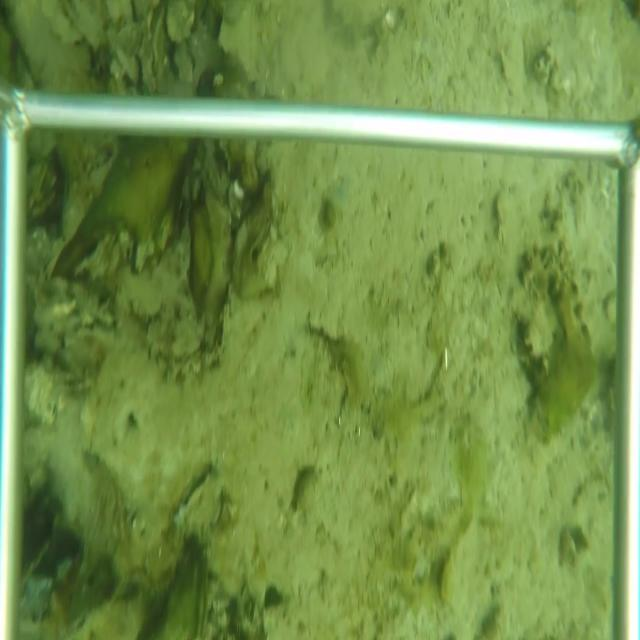Oyster-Open: (139, 0, 166, 92)
